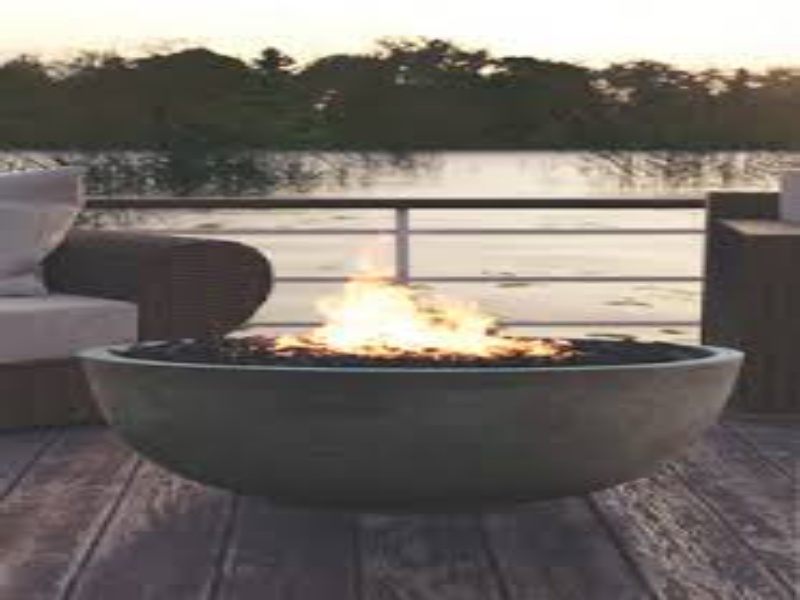fire: (309, 278, 492, 352)
